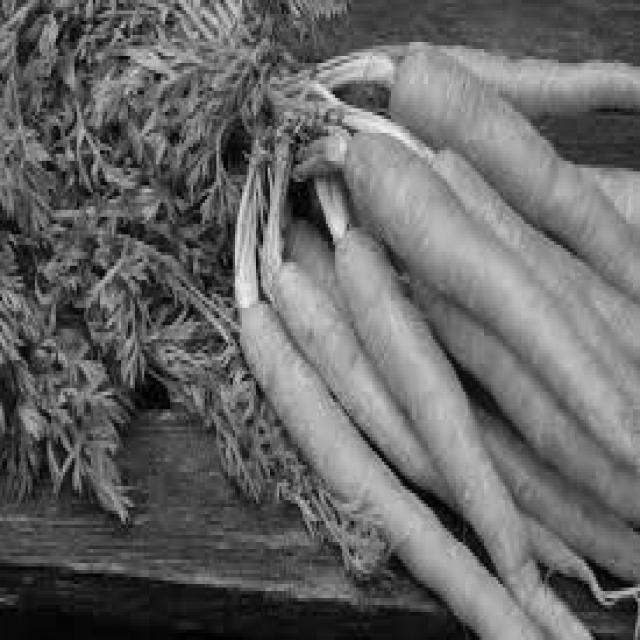Fresh_Carrot: (241, 308, 560, 640), (339, 216, 564, 630), (355, 133, 640, 459), (384, 44, 639, 308), (276, 262, 471, 522)
